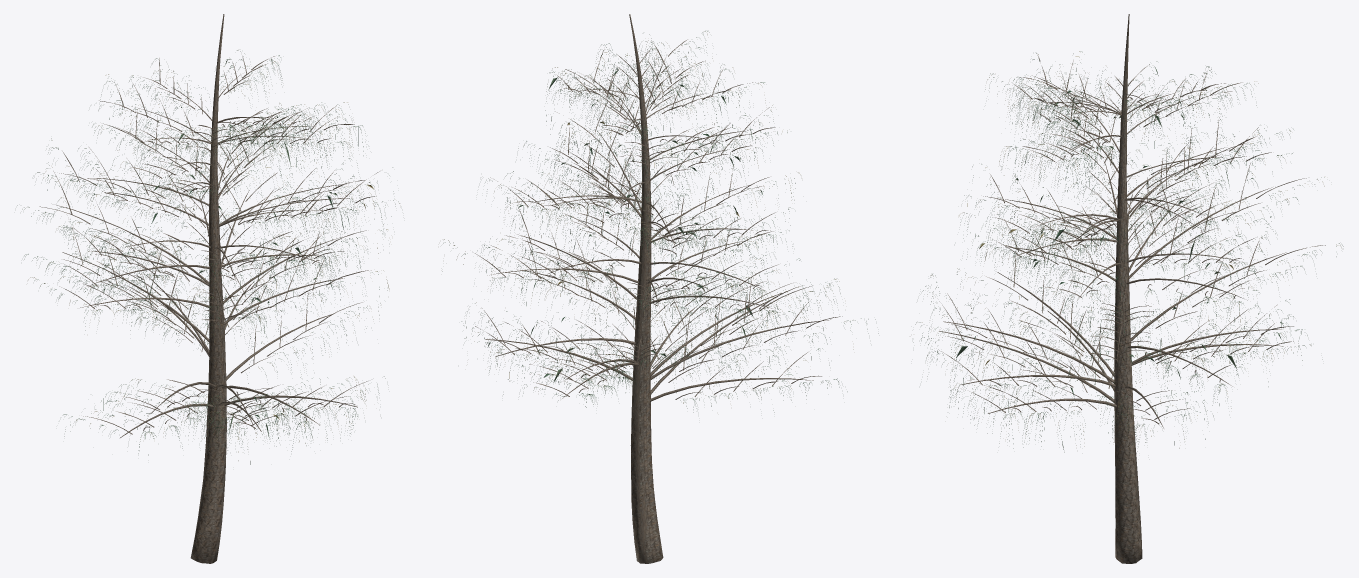
The model's file is casuarina-5.glb.
3 views of the same model, side by side, from view 1: azimuth 30°, elevation 25°; view 2: azimuth 150°, elevation 25°; view 3: azimuth 270°, elevation 25° (orthographic). The views are drawn at different scales.
Visible parts, largest first — view 1: bark, branchlets; view 2: bark, branchlets; view 3: bark, branchlets.
Part boxes in pixels (left/top/right/bottom): bark: left=39, top=14, right=379, bottom=563; branchlets: left=17, top=50, right=399, bottom=464; bark: left=475, top=14, right=842, bottom=563; branchlets: left=442, top=31, right=878, bottom=412; bark: left=939, top=14, right=1325, bottom=563; branchlets: left=913, top=51, right=1343, bottom=452.
Bounding box in the file's own units: 5.63 × 8.13 × 5.8.
Materials: 2 (2 with a texture image).
